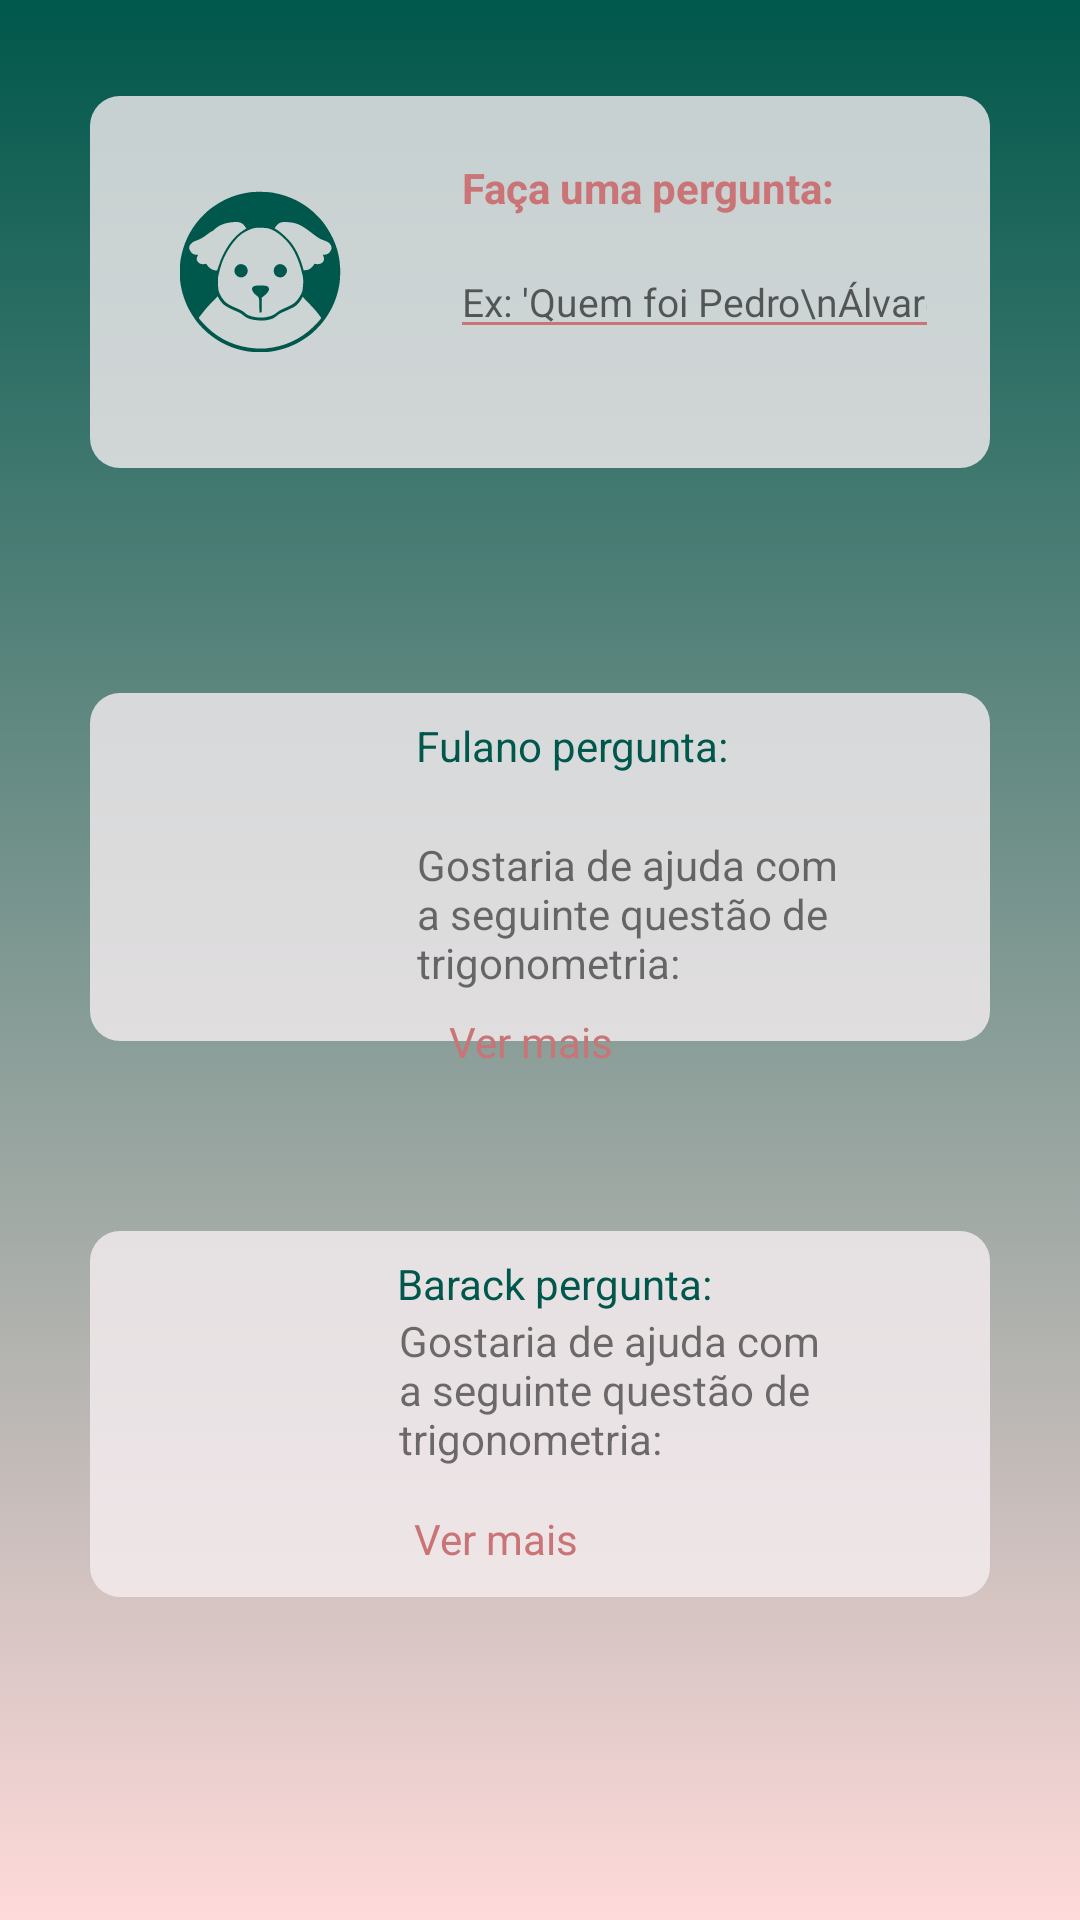

Icons on this 1080*1920 Android screen, each with its box as (x1=x1, y1=y1, x2=x2, y2=y2):
dog perfil: (x1=180, y1=191, x2=341, y2=352)
